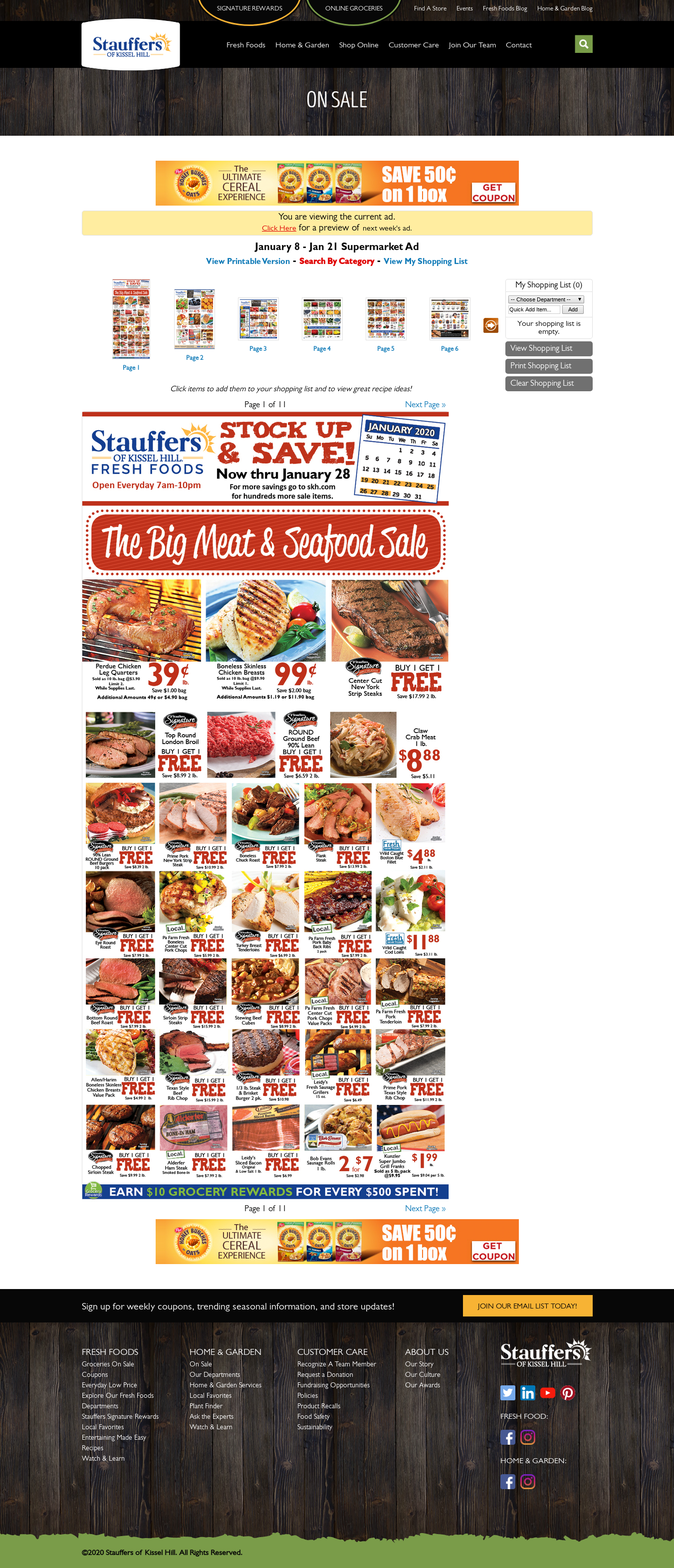fake_button: (466, 1233, 521, 1268), (468, 178, 521, 207)
